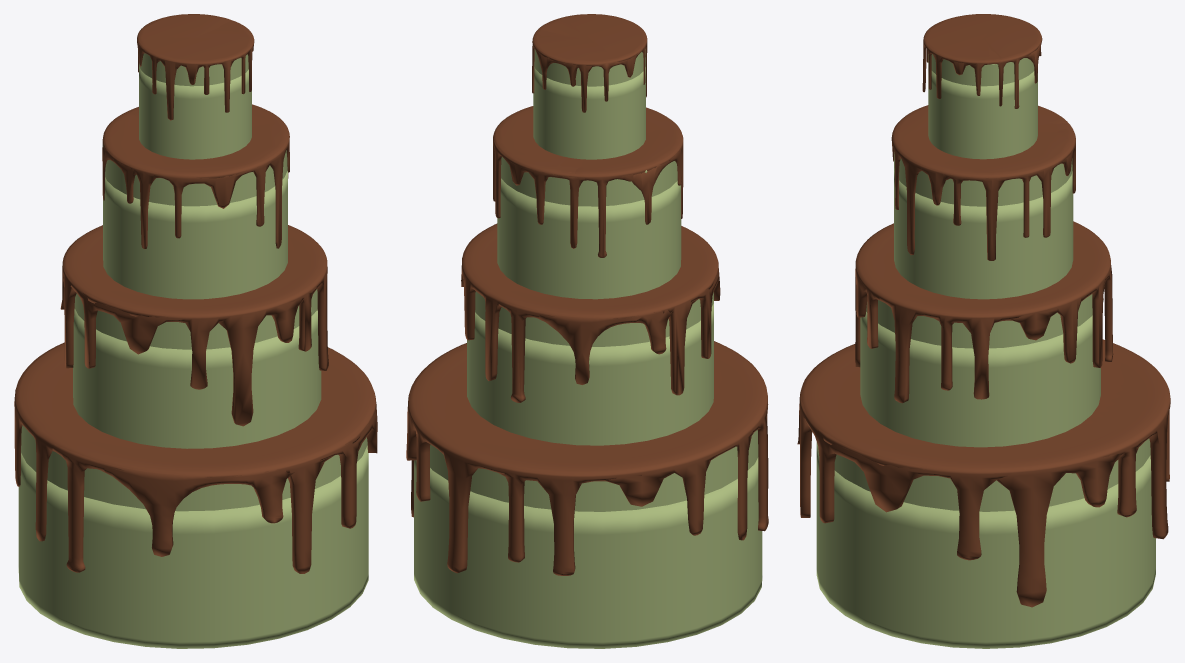
The model's file is 4-tier-pistage-ganache-none.glb.
The picture shows the model from 3 angles, left to right: view 1: azimuth 30°, elevation 25°; view 2: azimuth 150°, elevation 25°; view 3: azimuth 270°, elevation 25°; orthographic projection.
Parts seen in each view (by area): view 1: 3.001, tHE ICING.008, 3, 2, tHE ICING.007, tHE ICING.006, 1, tHE ICING.009; view 2: 3.001, tHE ICING.008, 3, 2, tHE ICING.007, tHE ICING.006, 1, tHE ICING.009; view 3: 3.001, tHE ICING.008, 3, 2, tHE ICING.007, tHE ICING.006, 1, tHE ICING.009.
Boxes of the visible parts, x1,y1,x2,y2 form: 3.001: (18,425,368,648); tHE ICING.008: (14,342,377,573); 3: (73,289,321,448); 2: (103,145,287,299); tHE ICING.007: (60,225,328,426); tHE ICING.006: (102,104,289,249); 1: (139,53,251,159); tHE ICING.009: (137,14,254,120); 3.001: (414,430,762,648); tHE ICING.008: (406,341,768,575); 3: (467,291,713,445); 2: (497,157,681,299); tHE ICING.007: (461,223,720,402); tHE ICING.006: (493,106,683,257); 1: (533,49,645,159); tHE ICING.009: (532,14,647,112); 3.001: (816,438,1155,648); tHE ICING.008: (797,339,1170,607); 3: (860,294,1100,447); 2: (894,152,1073,299); tHE ICING.007: (855,221,1113,403); tHE ICING.006: (891,105,1075,260); 1: (928,54,1037,159); tHE ICING.009: (922,14,1042,108).
Bounding box in the file's own units: 4.52 × 7.45 × 4.69.
